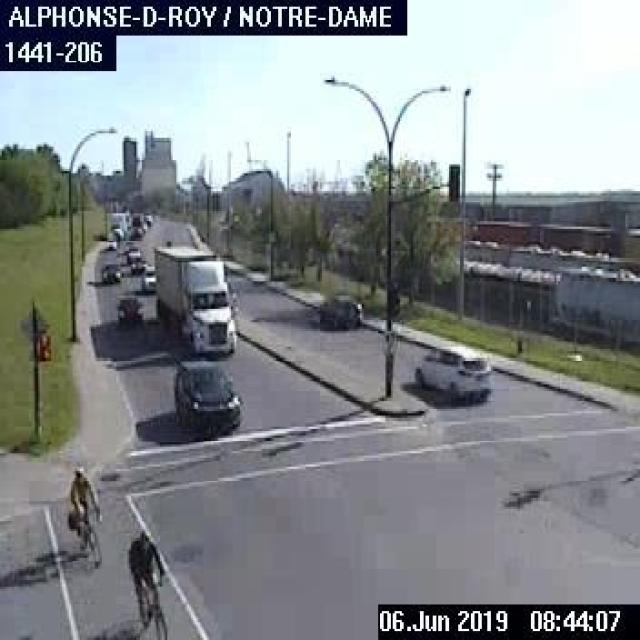cyclist: (126, 531, 166, 638), (65, 464, 100, 554)
vehicle: (148, 241, 238, 358), (168, 350, 245, 434), (412, 342, 492, 400), (314, 296, 362, 332), (115, 295, 144, 323), (142, 262, 158, 295), (100, 262, 120, 282), (129, 257, 147, 275), (124, 244, 141, 262), (104, 237, 117, 250)
